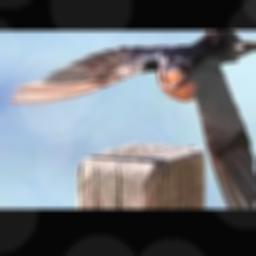Swallow: (10, 30, 256, 209)
